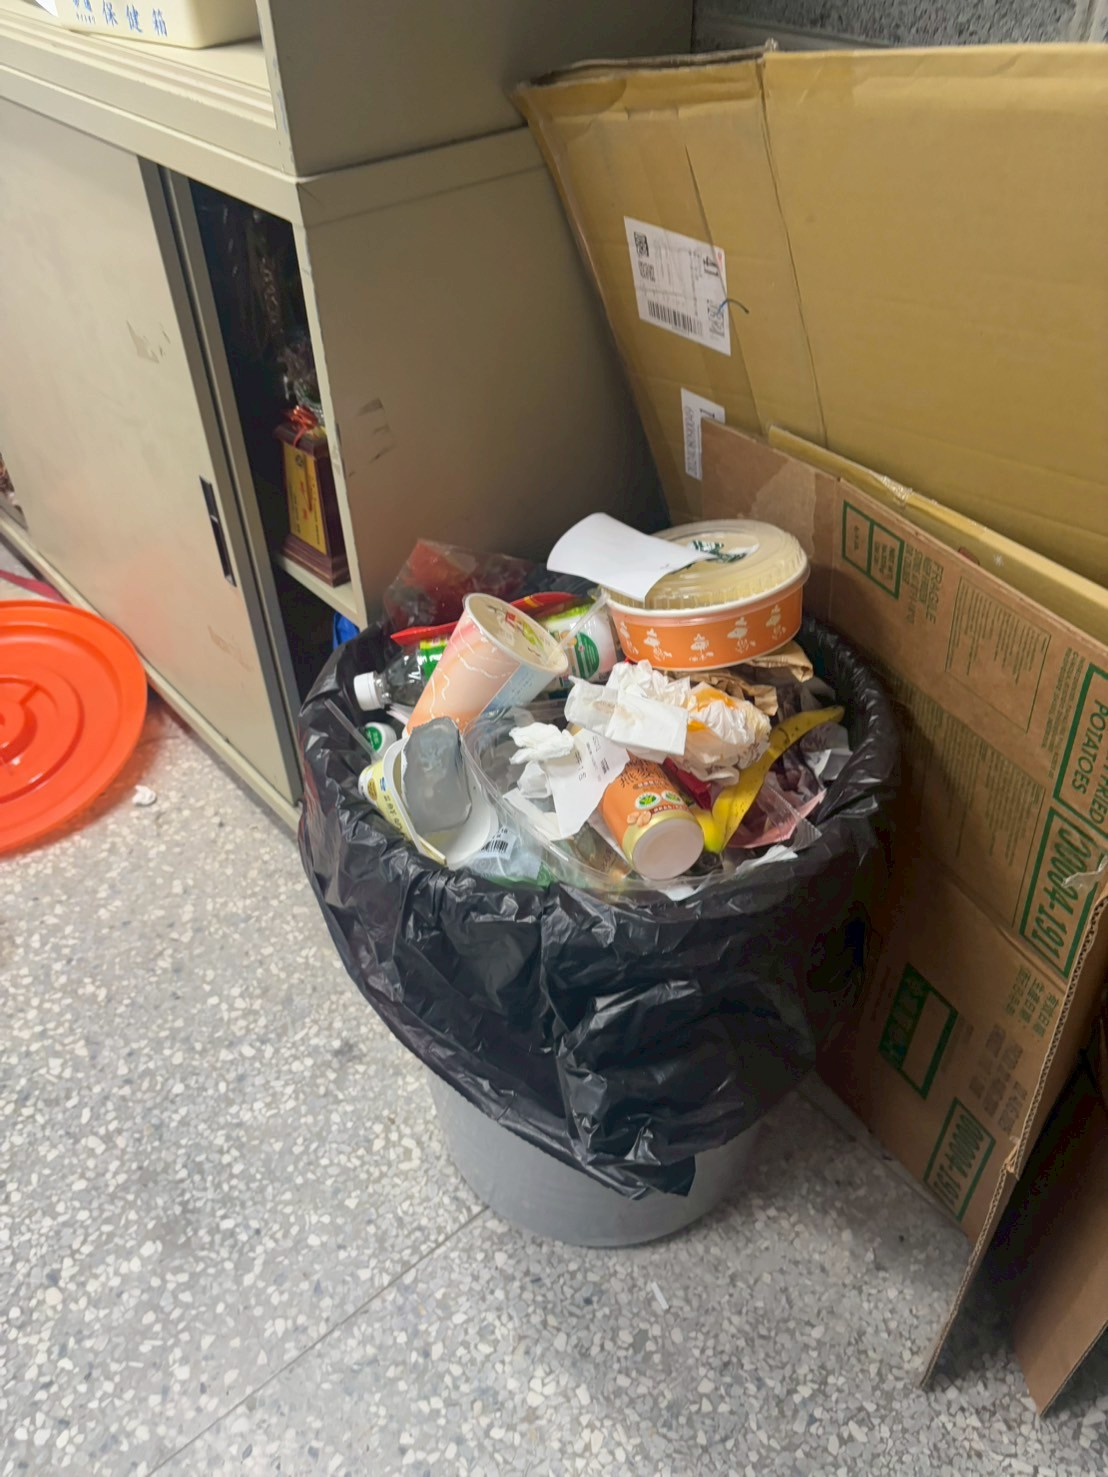overflow_bin: (284, 500, 911, 1254)
